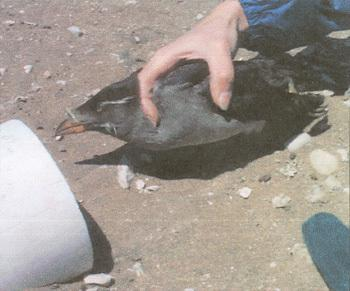008.Rhinoceros_Auklet: (55, 58, 266, 153)
